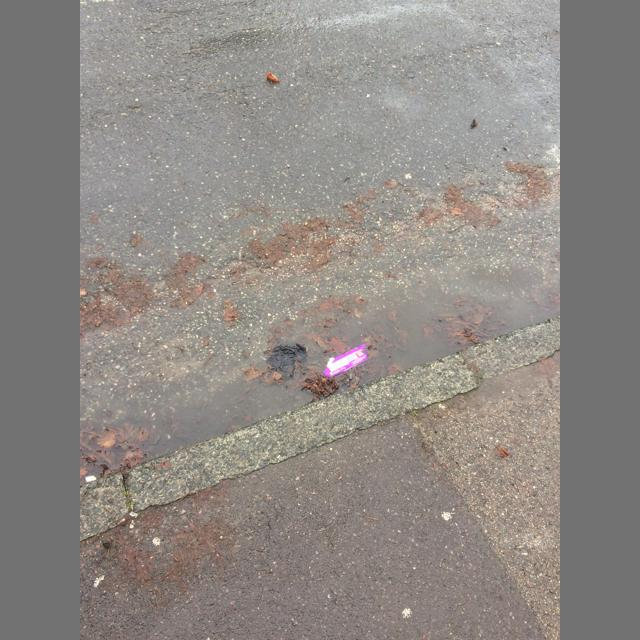litter: (323, 343, 372, 377)
